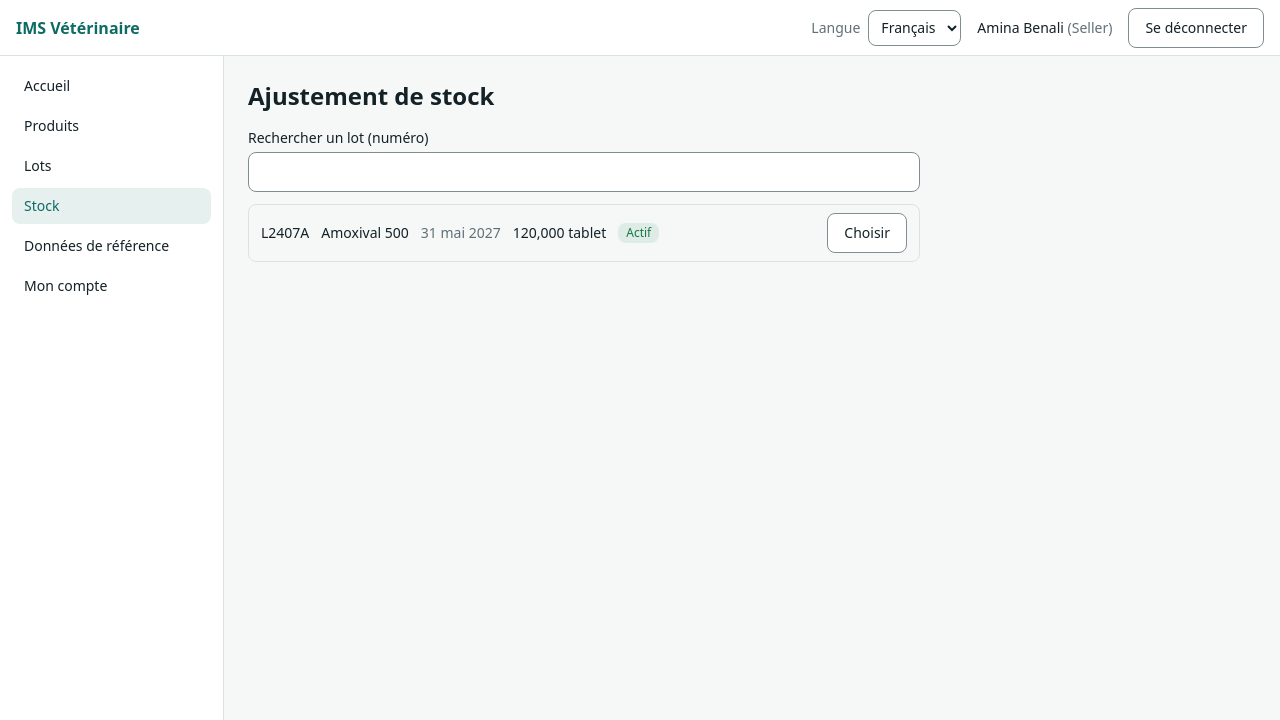
Test: manual adjustment (ADR-085) › lets the user pick a lot first
The image size is (1280, 720).
Click the button with aria-label "Choisir le lot L2407A" at point(867, 233), box [827,213,907,253]
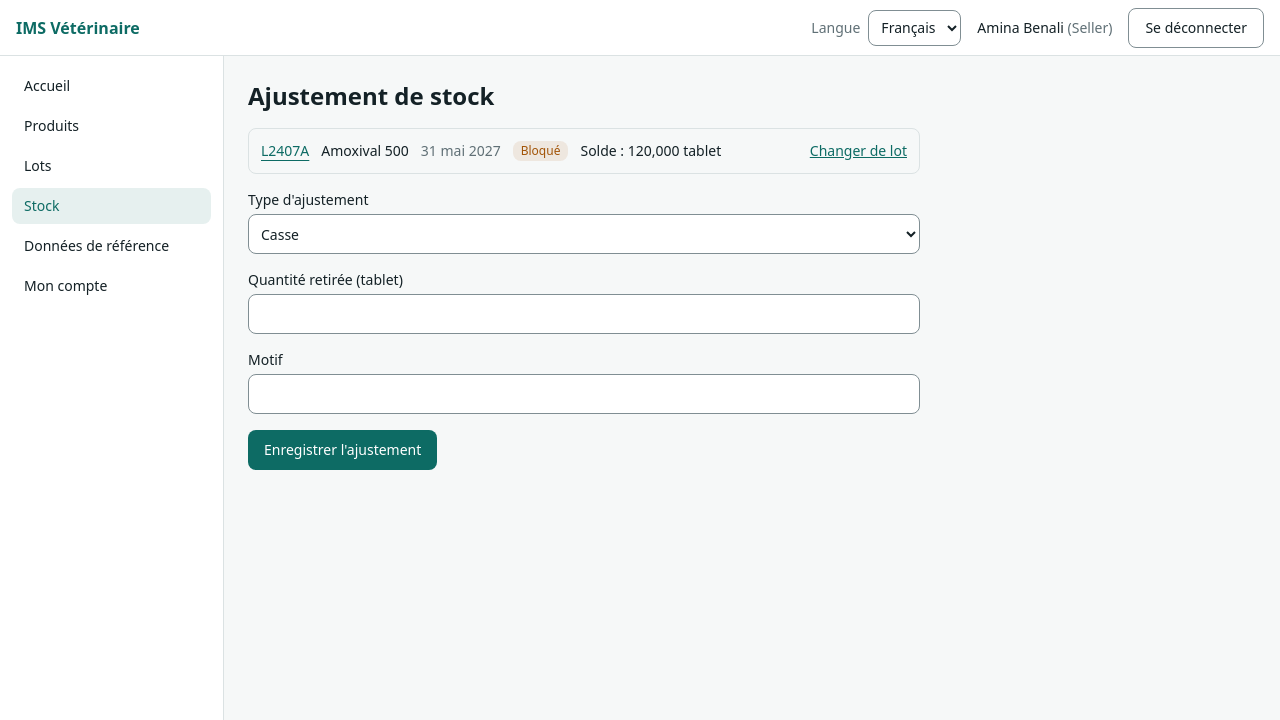
Check: the dropdown labelled "Type d'ajustement" is shown, box [248,214,920,254]
